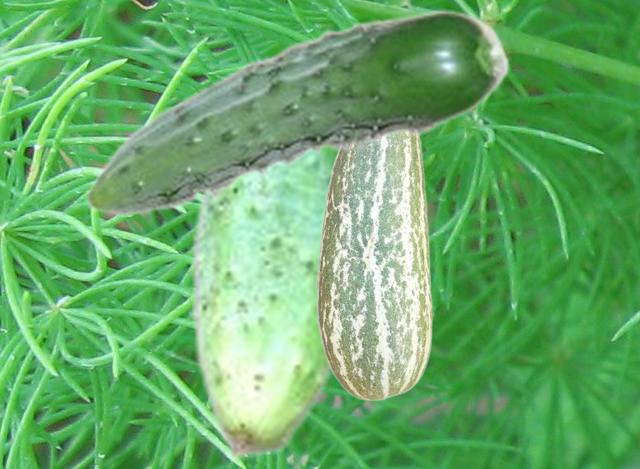cucumber: (84, 9, 510, 215), (189, 149, 336, 460), (316, 135, 432, 400)
